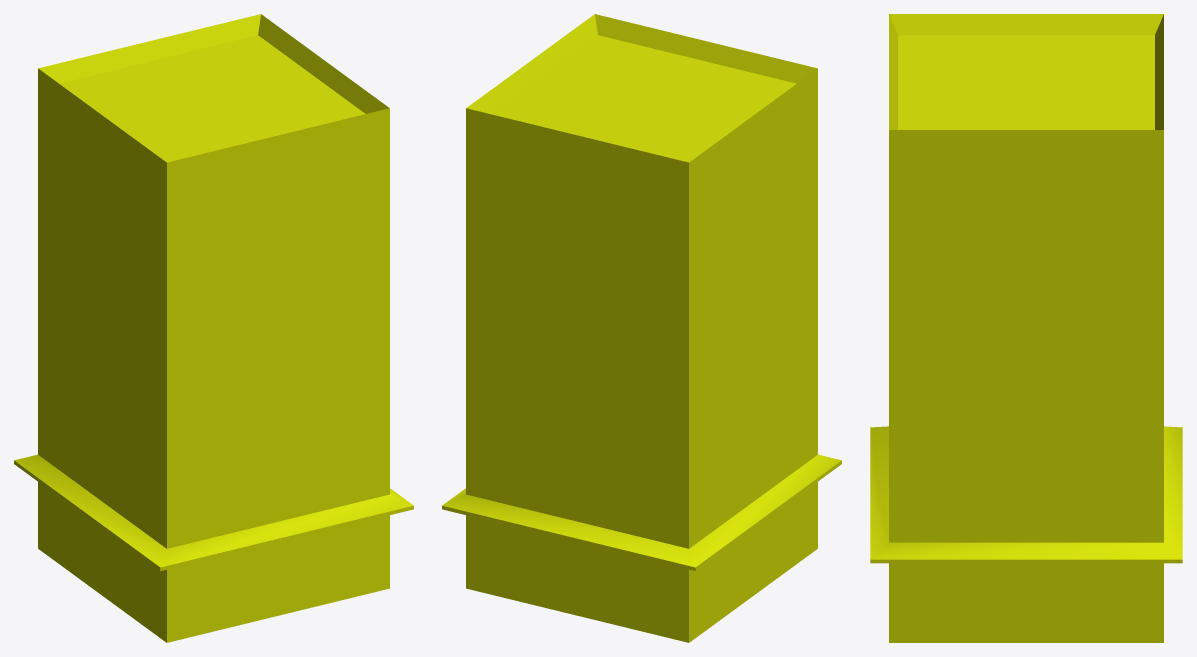
File: cube.076_lev1_lev3.glb
3 renders of one model, left to right at view 1: azimuth 30°, elevation 25°; view 2: azimuth 150°, elevation 25°; view 3: azimuth 270°, elevation 25°, orthographic. The views are drawn at different scales.
Parts seen in each view (by area): view 1: cube.076_lev1_lev3; view 2: cube.076_lev1_lev3; view 3: cube.076_lev1_lev3.
Part boxes in pixels (x1,y1,x2,y2): cube.076_lev1_lev3: (14,14,413,642); cube.076_lev1_lev3: (442,14,841,642); cube.076_lev1_lev3: (870,14,1182,642).
Size of the model in its own units: 4.07 by 7.36 by 4.07.
